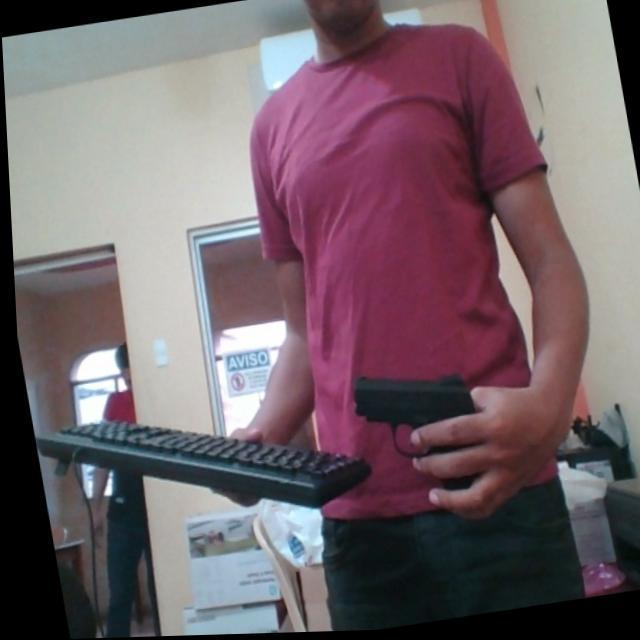weapon: (340, 358, 486, 512)
